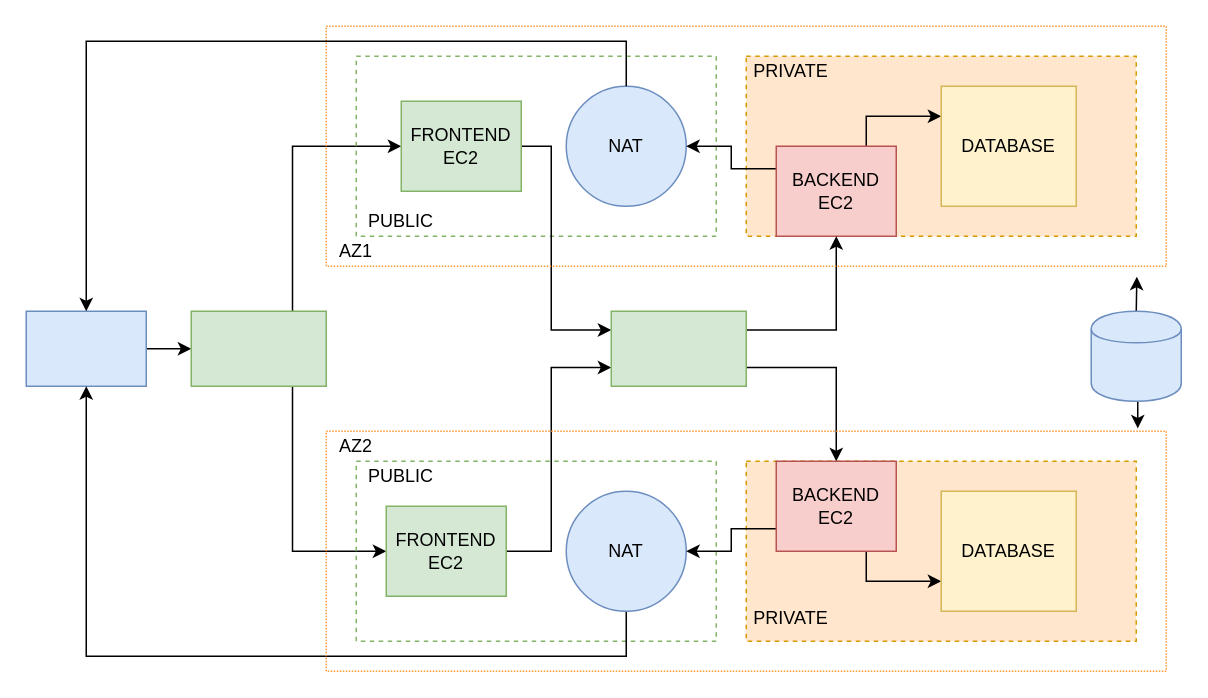
This 1208x698 diagram has some shape labels left out. Each missing label, with the centre of its shape:
EXTERNAL LOAD BALANCER: the point at 258,348
INTERNAL LOAD BALANCER: the point at 678,348
INTERNET GATEWAY: the point at 85,348
S3: the point at 1135,355
